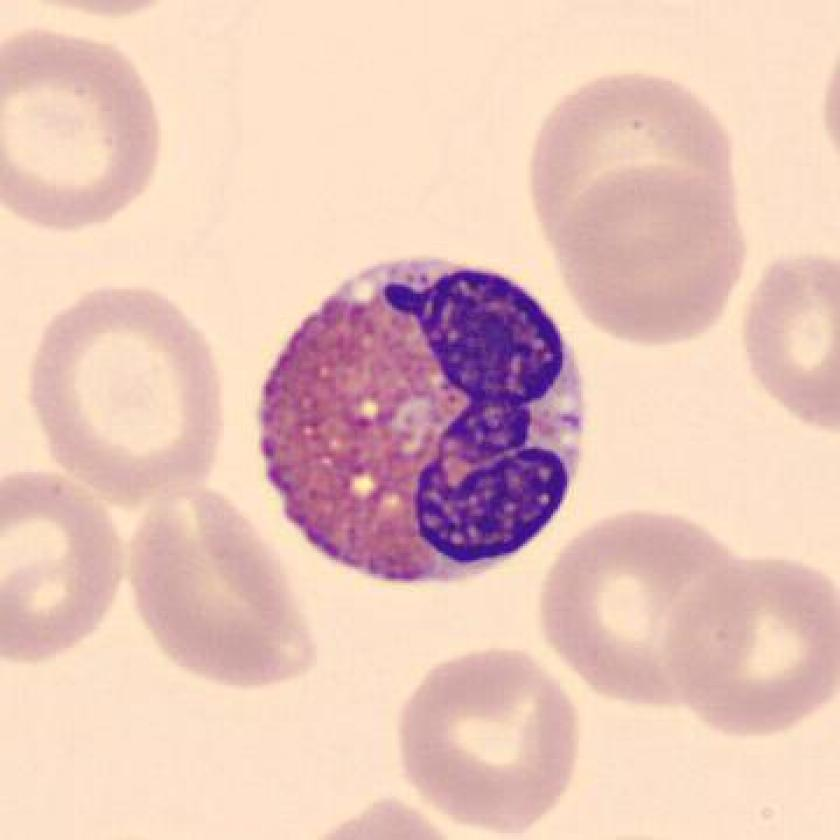eosinophil: (239, 242, 608, 593)
